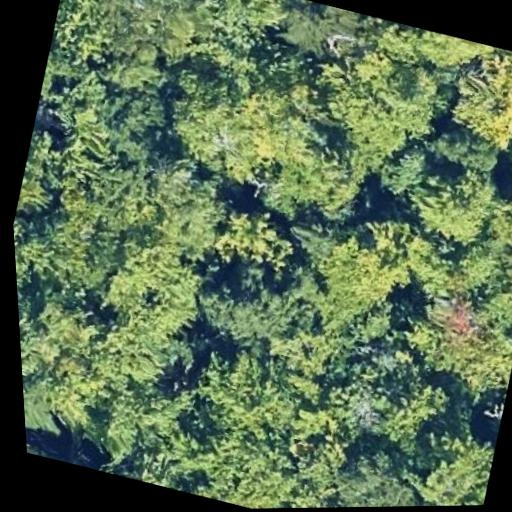tree-top: (287, 198, 433, 342), (301, 34, 451, 172), (155, 56, 307, 190), (90, 228, 213, 352), (324, 348, 453, 460), (398, 273, 512, 397), (188, 340, 314, 448), (184, 250, 305, 359), (16, 276, 114, 407), (69, 0, 218, 81), (401, 150, 508, 254), (134, 158, 237, 264), (146, 0, 297, 71), (191, 422, 306, 510), (432, 39, 512, 164), (94, 75, 188, 178), (30, 41, 129, 138), (401, 417, 500, 506), (206, 195, 302, 281), (366, 367, 457, 456), (9, 120, 84, 227), (327, 440, 430, 508), (274, 0, 369, 64), (416, 117, 505, 178), (400, 24, 494, 80), (371, 131, 443, 201), (24, 408, 43, 455)
